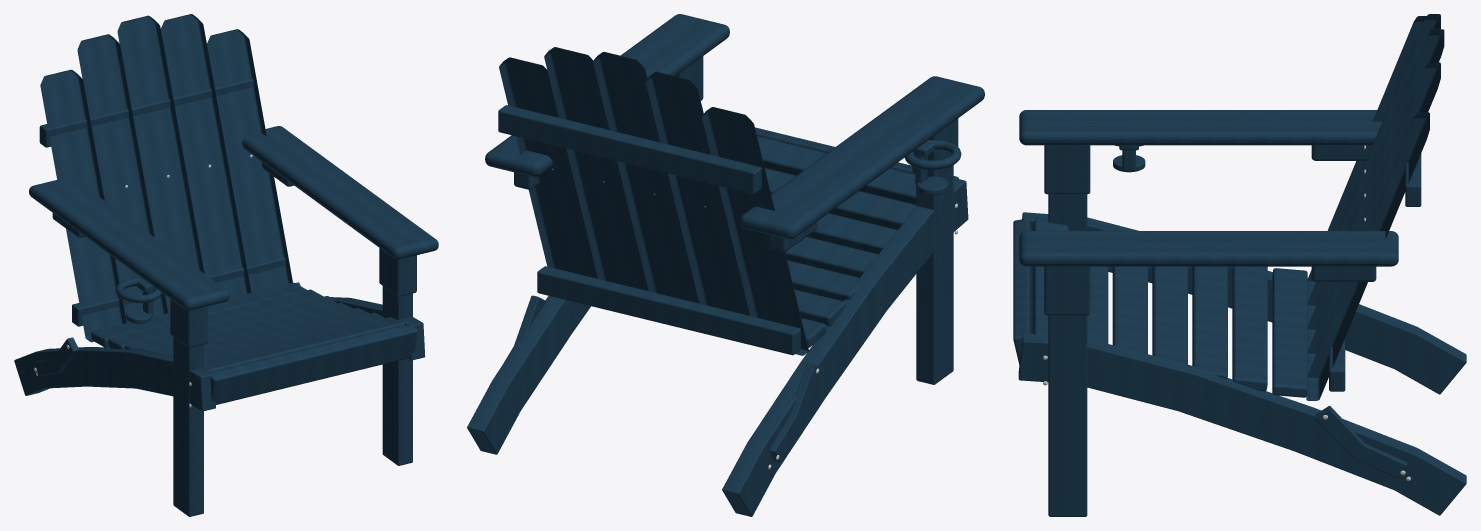
File: serwall-blue-adirondack-chair.glb
The picture shows the model from 3 angles, left to right: view 1: azimuth 30°, elevation 25°; view 2: azimuth 150°, elevation 25°; view 3: azimuth 270°, elevation 25°; orthographic projection. The views are drawn at different scales.
Visible parts, largest first — view 1: Arched reclining back slat.003, Arched reclining back slat.002, Arched reclining back slat.004, Arched reclining back slat.001, Broad rounded arm plank, Broad rounded arm plank.001, Arched reclining back slat, Waterfall front edge, Swept side runner, Front upright leg, Front upright leg.001, Contoured seat slat (+13 smaller); view 2: Swept side runner, Broad rounded arm plank, Arched reclining back slat.002, Arched reclining back slat.001, Arched reclining back slat.003, Arched reclining back slat, Arched reclining back slat.004, Rear horizontal back brace.001, Rear horizontal back brace, Swept side runner.001, Front upright leg, Broad rounded arm plank.001 (+10 smaller); view 3: Swept side runner.001, Broad rounded arm plank.001, Broad rounded arm plank, Front upright leg.001, Swept side runner, Arched reclining back slat.004, Contoured seat slat.006, Contoured seat slat.005, Contoured seat slat.004, Contoured seat slat.003, Arched reclining back slat.003, Arched reclining back slat.002 (+14 smaller).
Part boxes in pixels (x1,y1,x2,y2): Arched reclining back slat.003: [161, 14, 251, 297]; Arched reclining back slat.002: [117, 15, 204, 312]; Arched reclining back slat.004: [207, 29, 292, 292]; Arched reclining back slat.001: [77, 34, 168, 322]; Broad rounded arm plank: [29, 179, 229, 310]; Broad rounded arm plank.001: [242, 126, 438, 259]; Arched reclining back slat: [40, 69, 126, 342]; Waterfall front edge: [210, 325, 417, 404]; Swept side runner: [14, 347, 215, 411]; Front upright leg: [173, 337, 203, 516]; Front upright leg.001: [382, 286, 412, 465]; Contoured seat slat: [202, 317, 407, 372]; Swept side runner: [722, 178, 968, 516]; Broad rounded arm plank: [740, 76, 984, 239]; Arched reclining back slat.002: [593, 52, 699, 303]; Arched reclining back slat.001: [645, 71, 749, 315]; Arched reclining back slat.003: [544, 47, 648, 290]; Arched reclining back slat: [702, 107, 808, 355]; Arched reclining back slat.004: [499, 57, 597, 278]; Rear horizontal back brace.001: [498, 105, 761, 194]; Rear horizontal back brace: [537, 266, 800, 355]; Swept side runner.001: [467, 296, 590, 454]; Front upright leg: [916, 165, 953, 384]; Broad rounded arm plank.001: [485, 14, 729, 177]; Swept side runner.001: [1018, 333, 1466, 515]; Broad rounded arm plank.001: [1019, 231, 1398, 266]; Broad rounded arm plank: [1019, 110, 1381, 145]; Front upright leg.001: [1048, 315, 1087, 516]; Swept side runner: [1022, 212, 1466, 394]; Arched reclining back slat.004: [1306, 112, 1429, 400]; Contoured seat slat.006: [1272, 268, 1307, 397]; Contoured seat slat.005: [1232, 266, 1267, 391]; Contoured seat slat.004: [1192, 266, 1227, 379]; Contoured seat slat.003: [1152, 266, 1187, 364]; Arched reclining back slat.003: [1307, 62, 1440, 374]; Arched reclining back slat.002: [1307, 29, 1444, 350].
Bounding box in the file's own units: 0.7493 × 0.9093 × 0.8992.
Materials: 2 (1 with a texture image).
